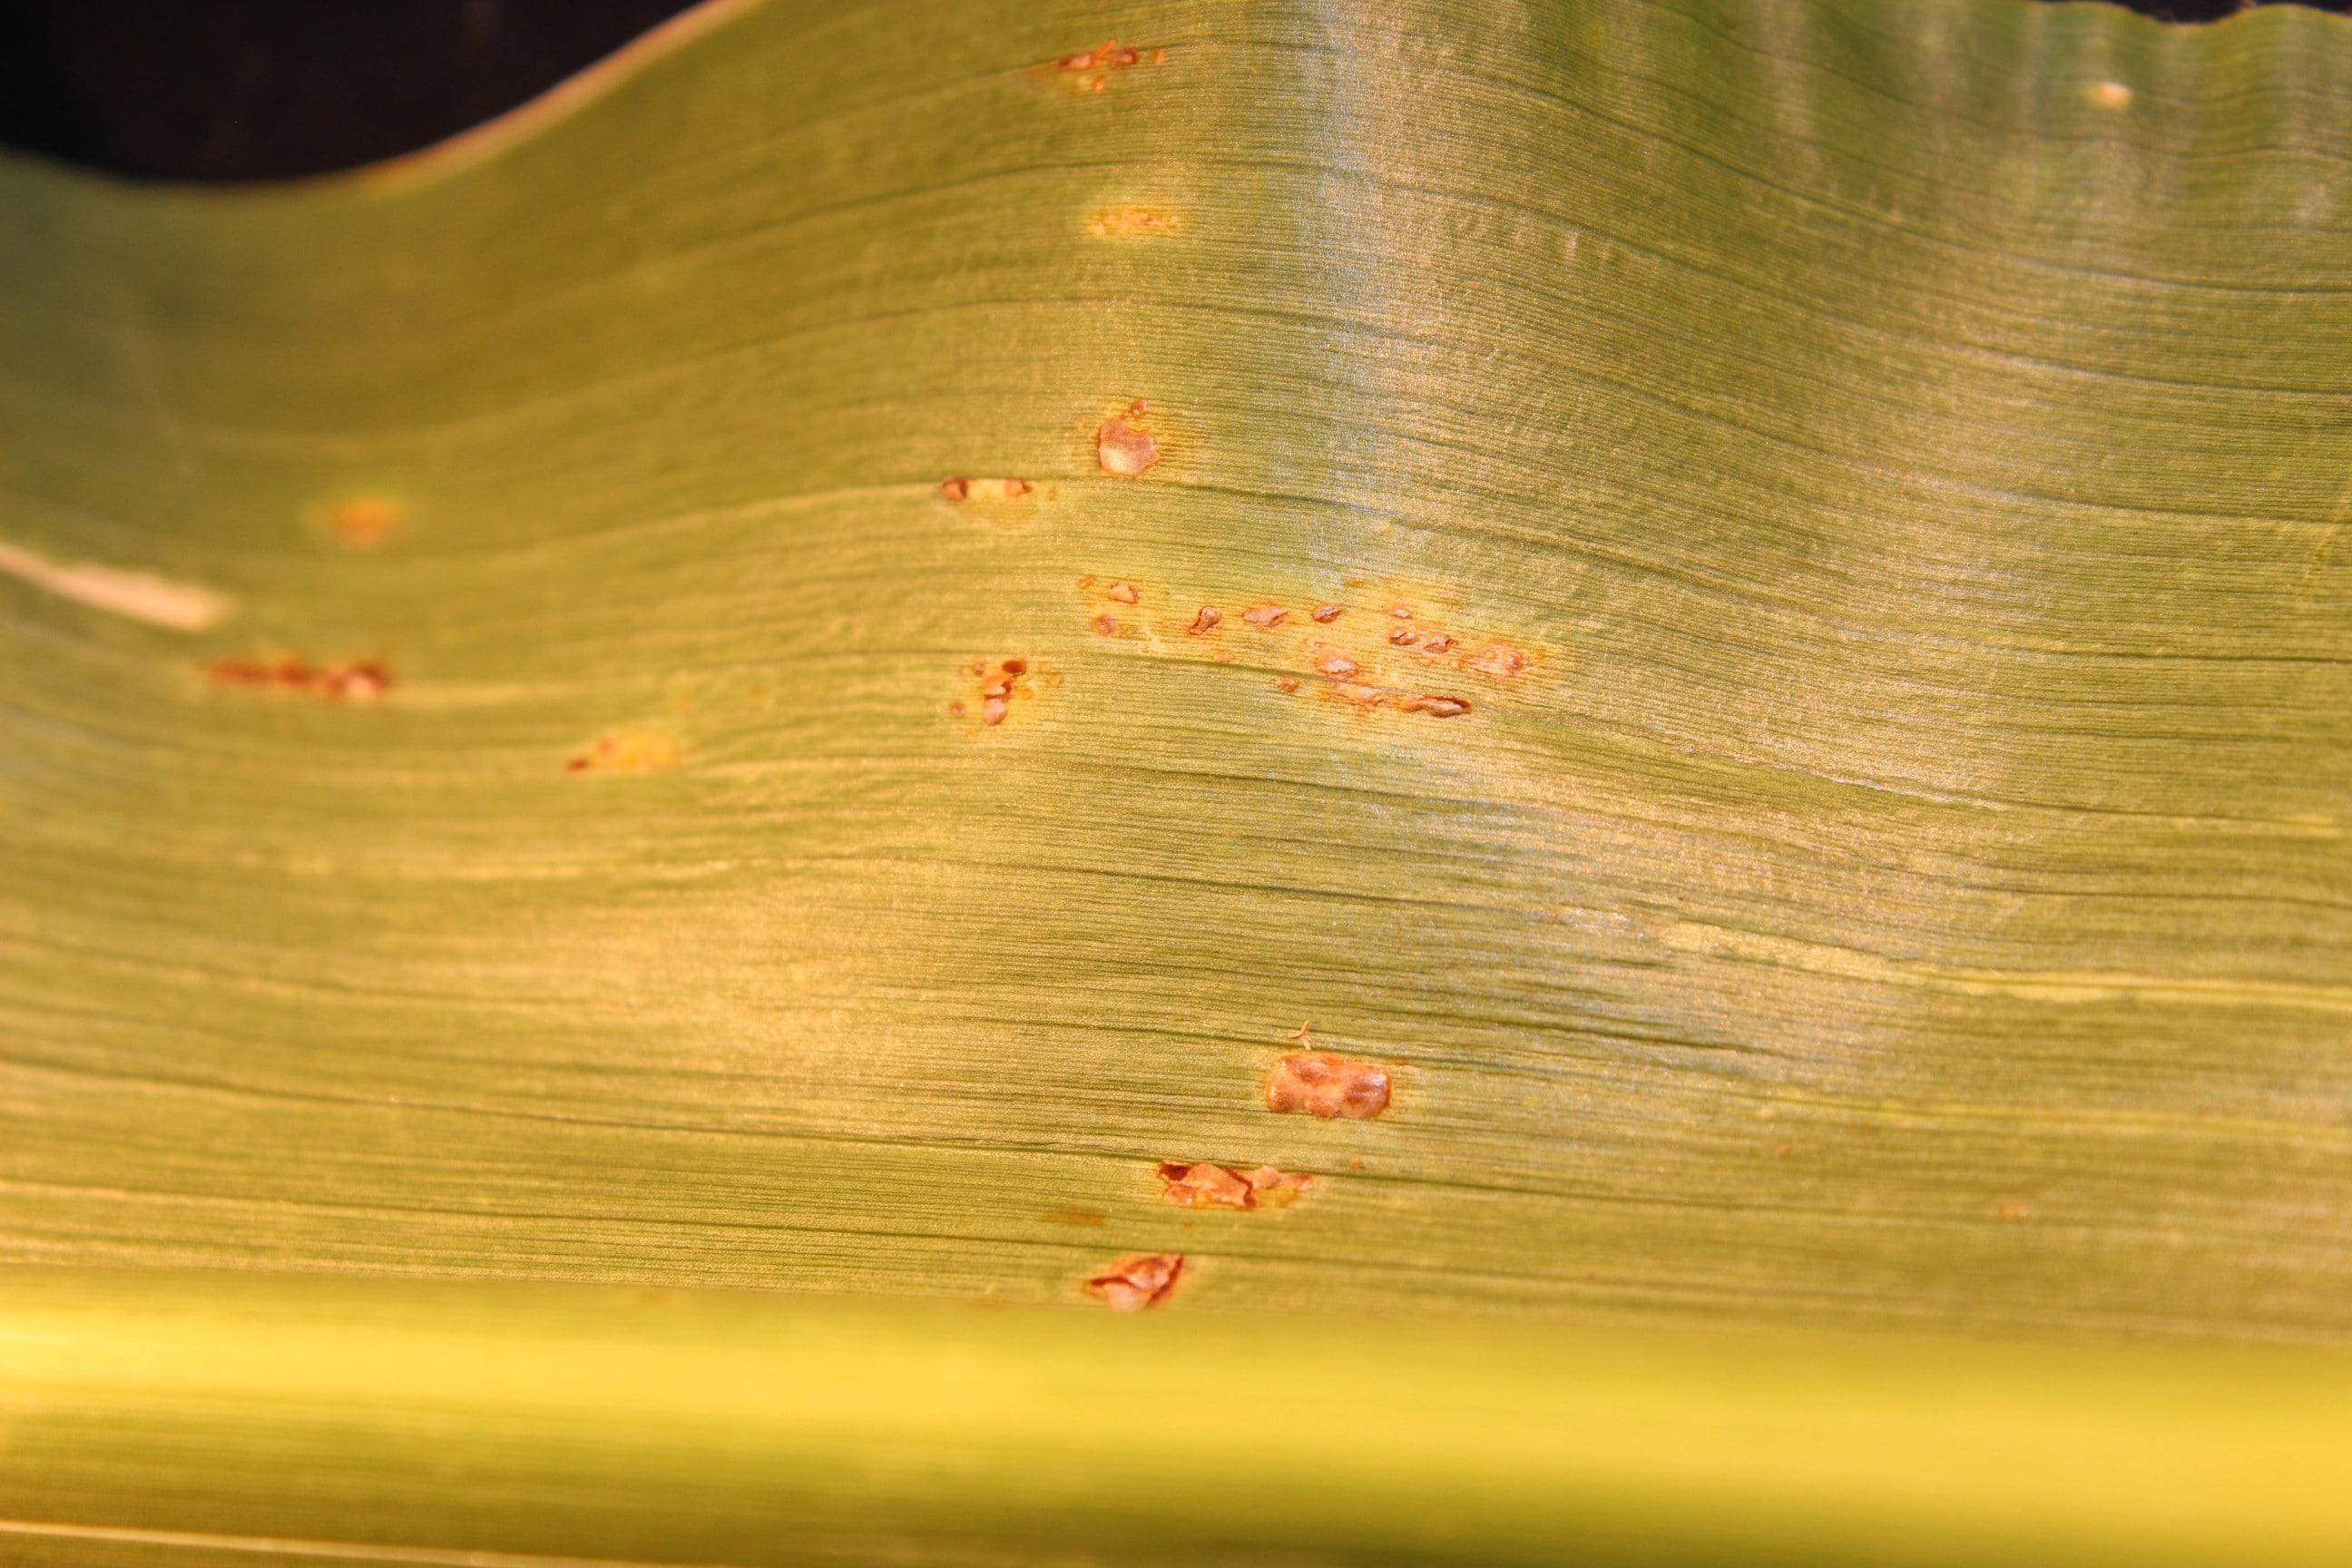Corn_Common_Rust: (940, 548, 1585, 742), (1123, 1024, 1416, 1218), (915, 353, 1193, 509), (0, 506, 229, 642), (205, 635, 420, 719), (1074, 1239, 1221, 1346), (289, 455, 423, 562), (548, 700, 670, 808), (1045, 28, 1169, 96), (1073, 184, 1187, 250), (2072, 46, 2147, 133)
